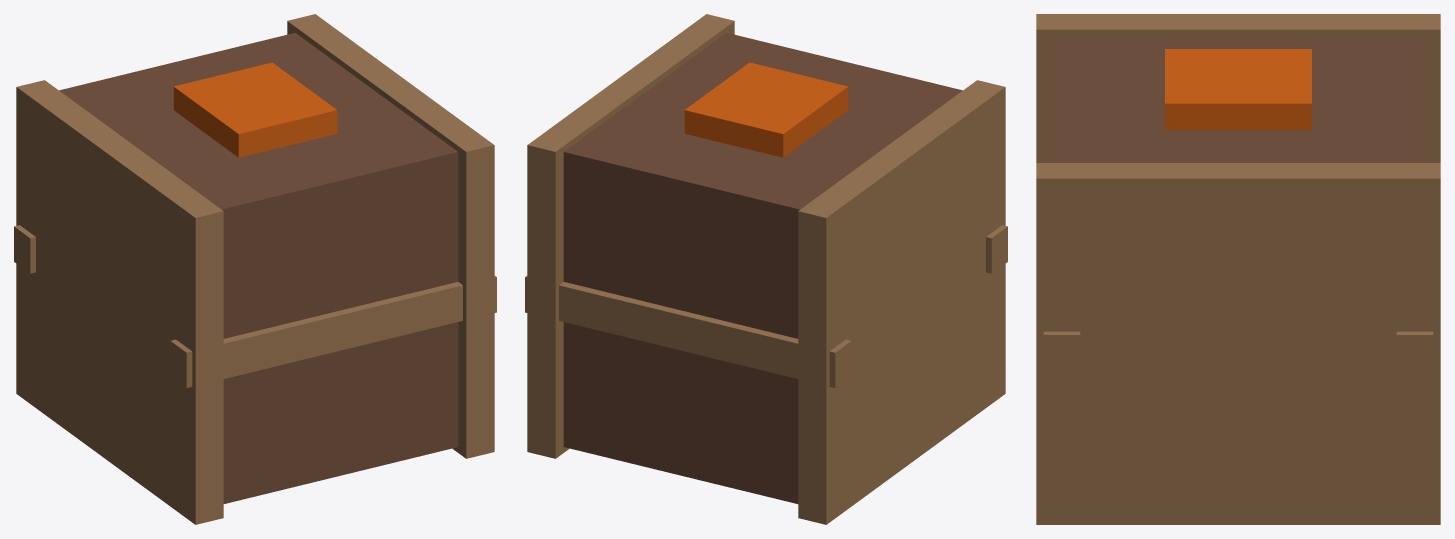
File: crate.glb
3 views of the same model, side by side, from view 1: azimuth 30°, elevation 25°; view 2: azimuth 150°, elevation 25°; view 3: azimuth 270°, elevation 25° (orthographic). The views are drawn at different scales.
Bounding box in the file's own units: 1.1 × 1.1 × 1.1.
